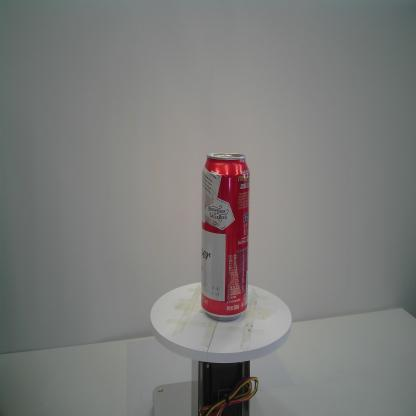Alcohol: (200, 152, 250, 322)
